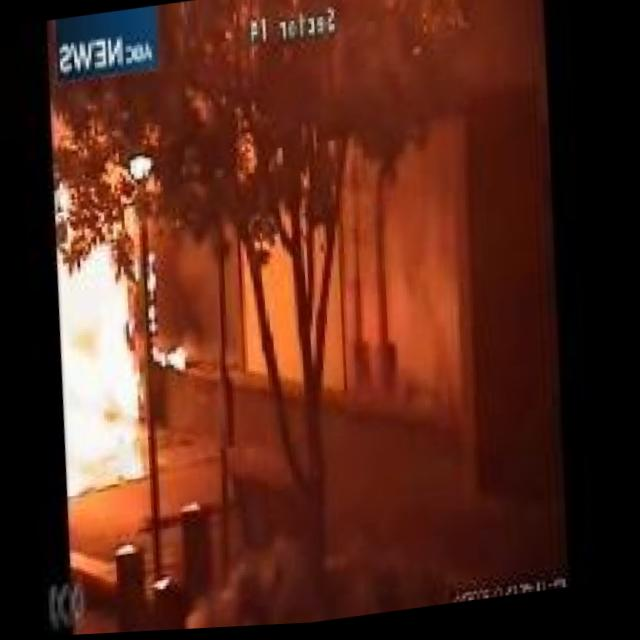fire: (39, 141, 218, 502)
